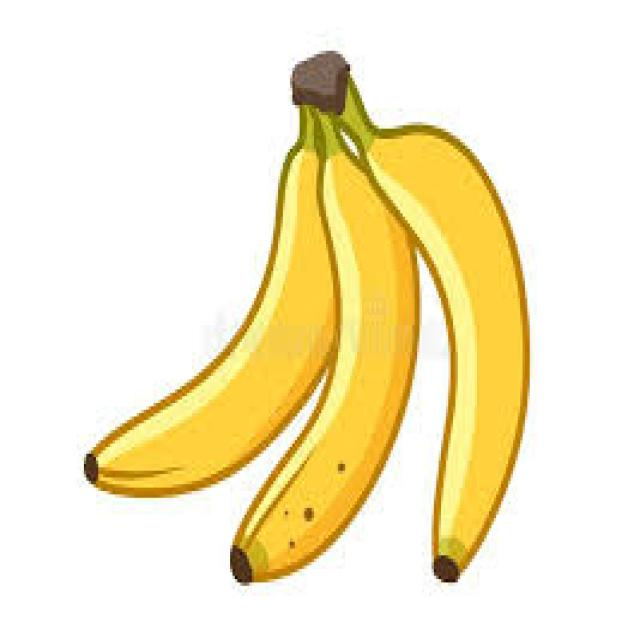banana: (82, 47, 530, 586)
